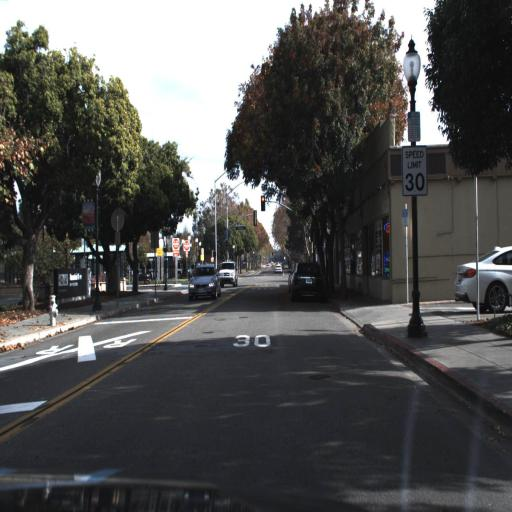car: (452, 245, 511, 311), (286, 256, 326, 304), (183, 265, 220, 301), (218, 257, 238, 288)
trafficLight-Red: (260, 191, 266, 213)
